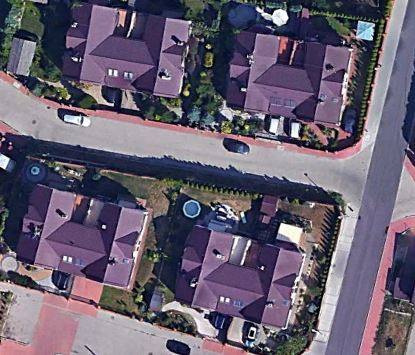terrace house: (14, 181, 151, 295), (172, 220, 307, 331), (223, 27, 355, 130), (58, 1, 195, 100)
